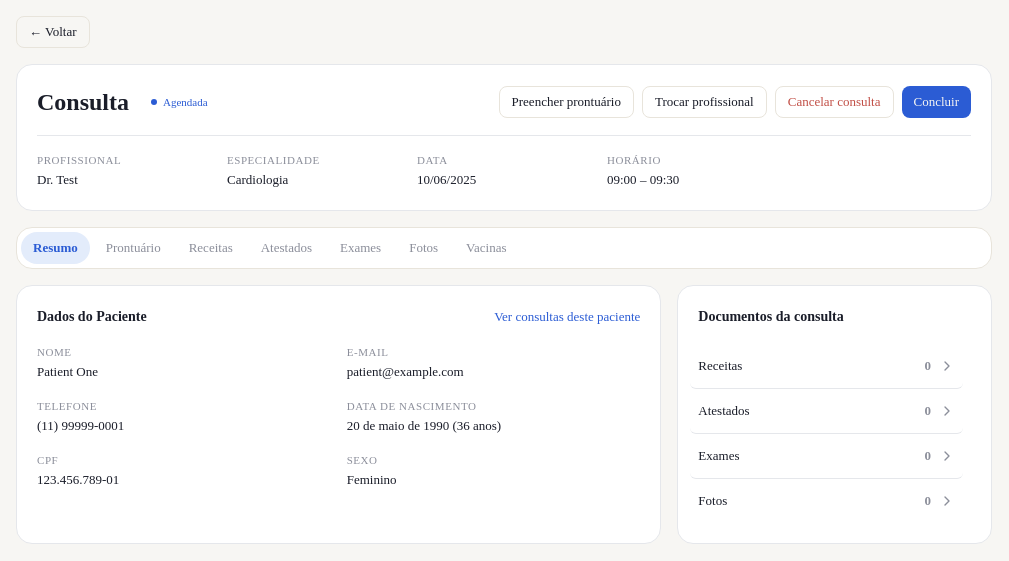
Test: AppointmentDetailPage (integration) › ADMIN sees fotos tab and can open the section
What coordinates should you click on to do the following:
click the tab with test id "tab-fotos"
I would click on:
 (424, 248)
Its box is left=397, top=232, right=450, bottom=264.
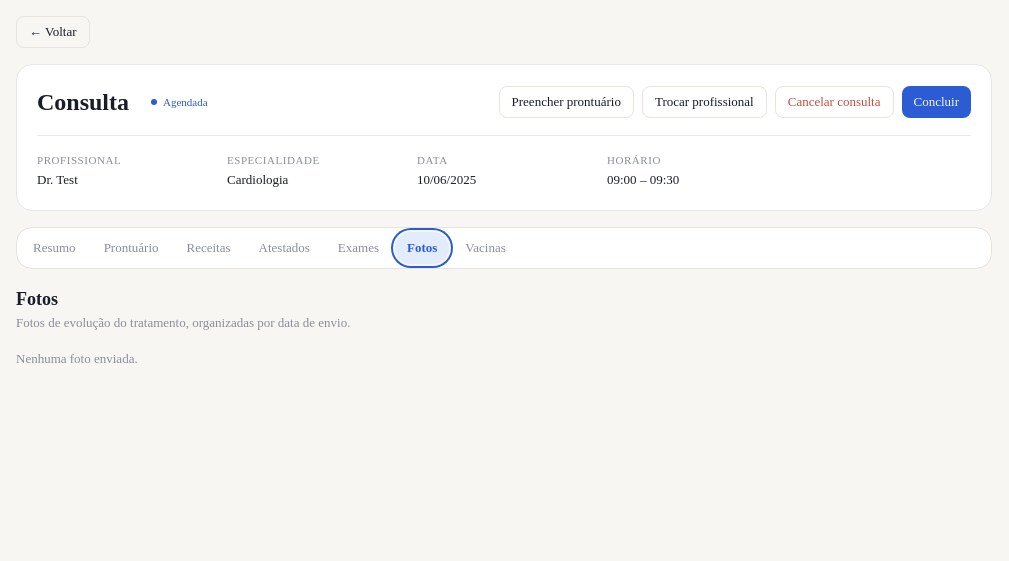
Expected: the element with test id "photo-section" is shown, left=16, top=289, right=350, bottom=366
